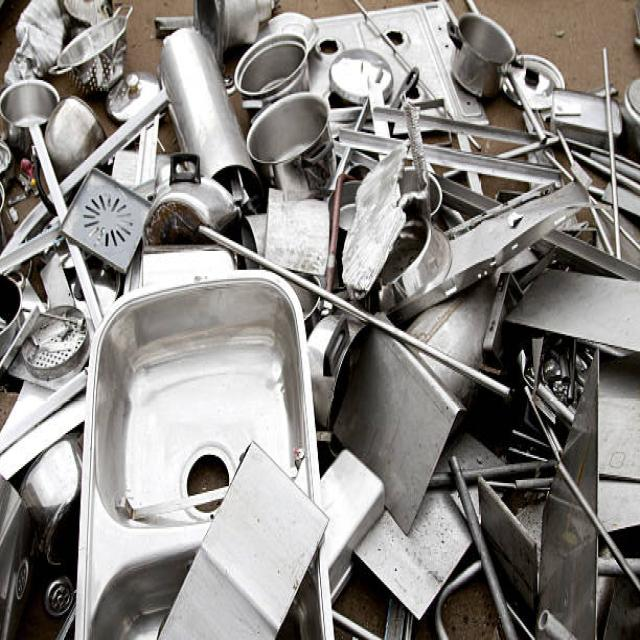metal: (16, 63, 614, 585)
